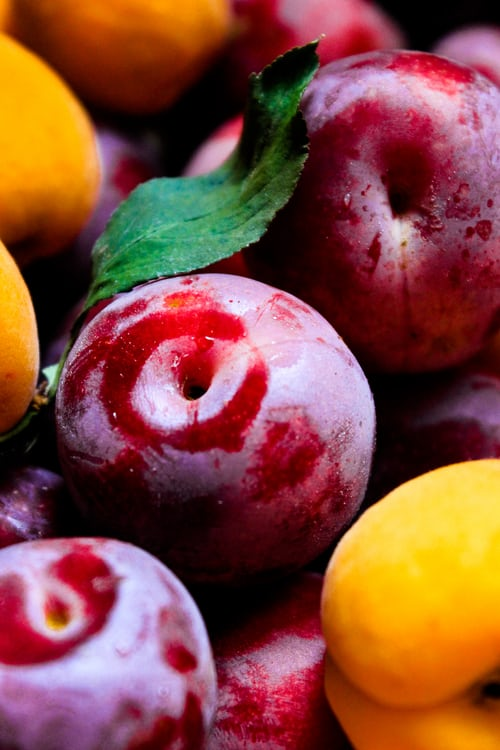apple: (51, 271, 379, 587), (258, 45, 498, 367), (1, 538, 229, 748)
